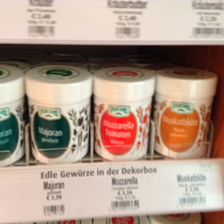spicesw: (23, 65, 92, 163), (92, 66, 155, 161), (155, 67, 217, 157)
